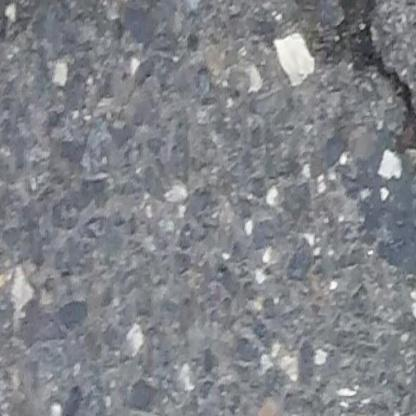Cracks: (323, 0, 416, 180)
